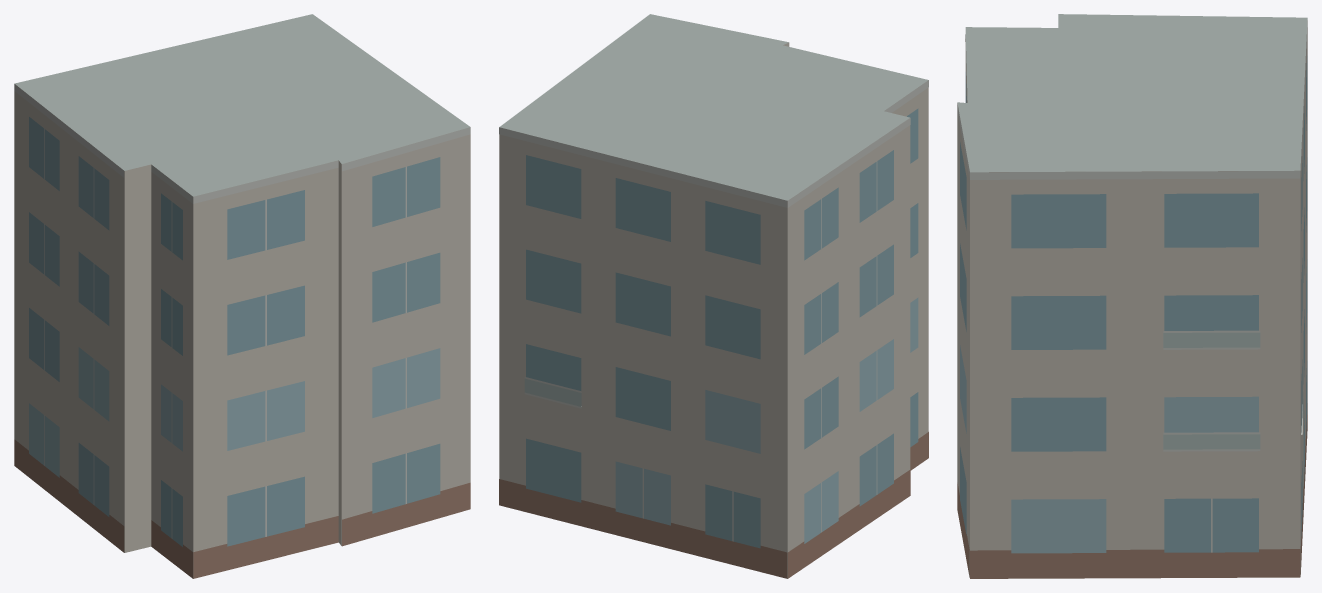
File: survey-upis-32610720.glb
The picture shows the model from 3 angles, left to right: view 1: azimuth 30°, elevation 25°; view 2: azimuth 150°, elevation 25°; view 3: azimuth 270°, elevation 25°; orthographic projection. The views are drawn at different scales.
Parts seen in each view (by area): view 1: survey-upis-32610720.tmp; view 2: survey-upis-32610720.tmp; view 3: survey-upis-32610720.tmp.
Part boxes in pixels (x1,y1,x2,y2): survey-upis-32610720.tmp: (14, 14, 470, 578); survey-upis-32610720.tmp: (499, 14, 928, 578); survey-upis-32610720.tmp: (957, 14, 1307, 578).
Bounding box in the file's own units: 10.69 × 12.8 × 10.
